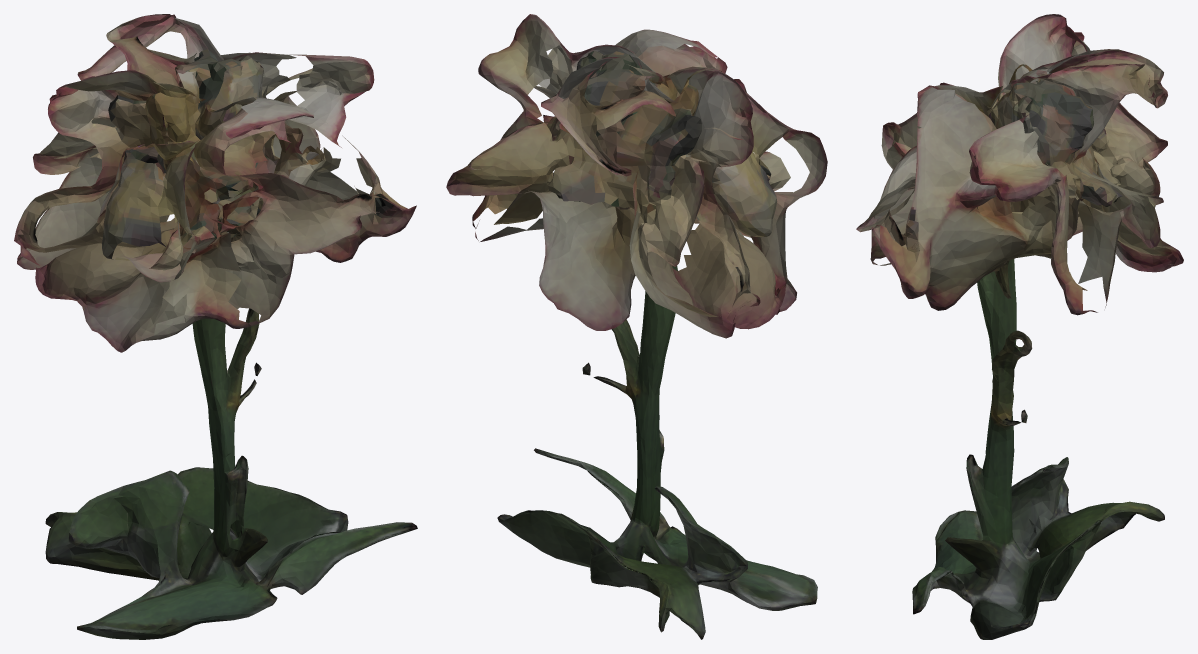
3 views of the same model, side by side, from view 1: azimuth 30°, elevation 25°; view 2: azimuth 150°, elevation 25°; view 3: azimuth 270°, elevation 25° (orthographic). The views are drawn at different scales.
Parts seen in each view (by area): view 1: world; view 2: world; view 3: world.
Part boxes in pixels (x1,y1,x2,y2): world: (14,14,417,639); world: (446,14,827,639); world: (856,14,1183,639).
Size of the model in its own units: 0.5656 by 0.9471 by 0.5183.
1 material, 1 textured.
